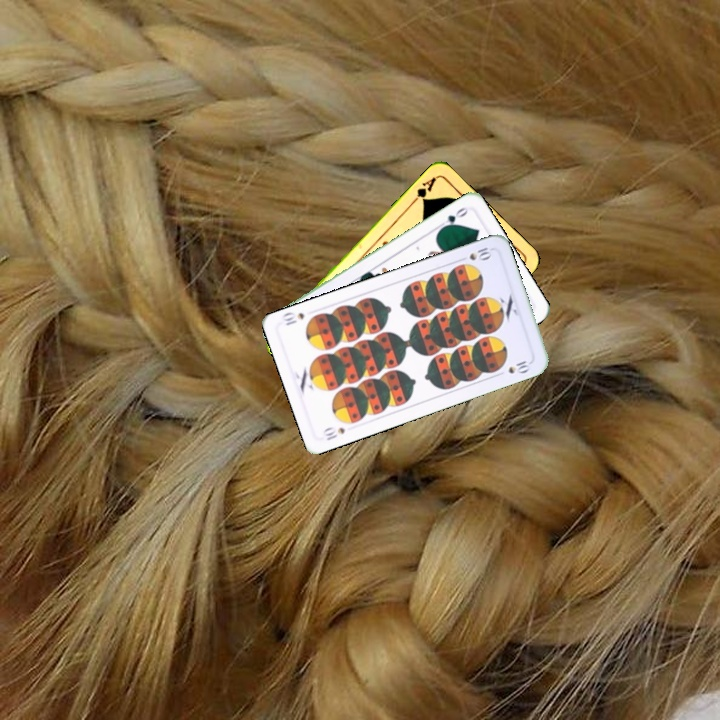GA: (407, 173, 439, 207)
GO: (434, 203, 470, 233)
S10: (455, 241, 494, 264), (319, 423, 348, 443)
